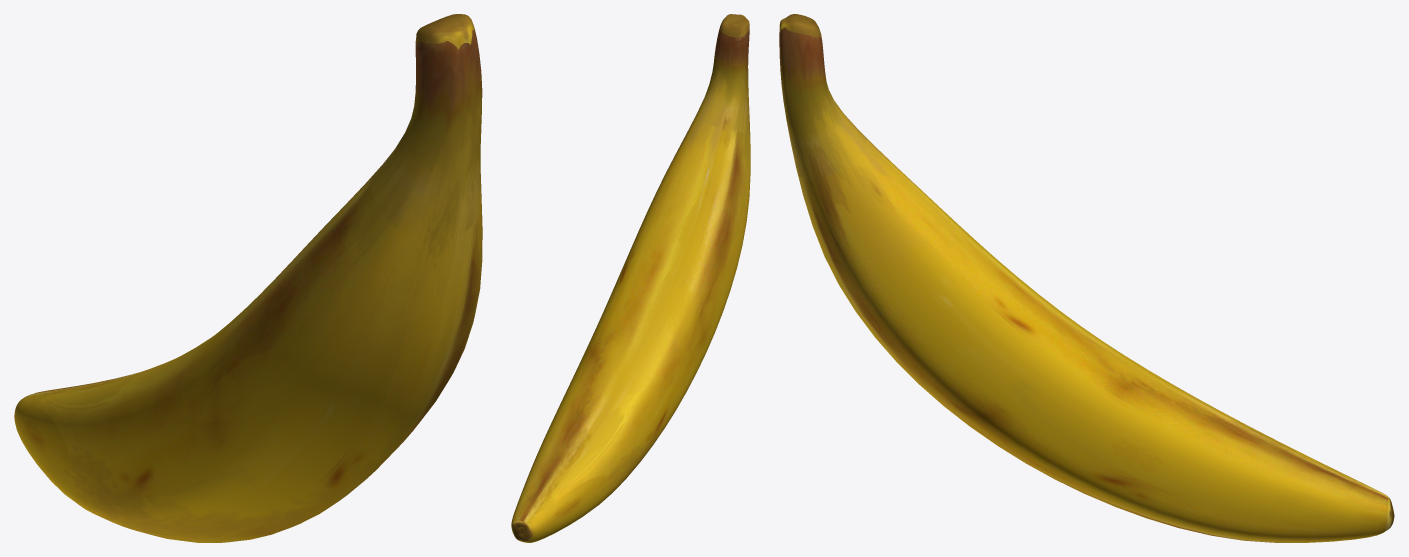
File: banana.fbx
3 renders of one model, left to right at view 1: azimuth 30°, elevation 25°; view 2: azimuth 150°, elevation 25°; view 3: azimuth 270°, elevation 25°, orthographic. The views are drawn at different scales.
Visible parts, largest first — view 1: banana; view 2: banana; view 3: banana.
Part boxes in pixels (bbox=[...]): banana: bbox=[14, 14, 482, 542]; banana: bbox=[511, 14, 750, 542]; banana: bbox=[779, 14, 1394, 542].
Bounding box in the file's own units: 1681 × 6813 × 7277.
